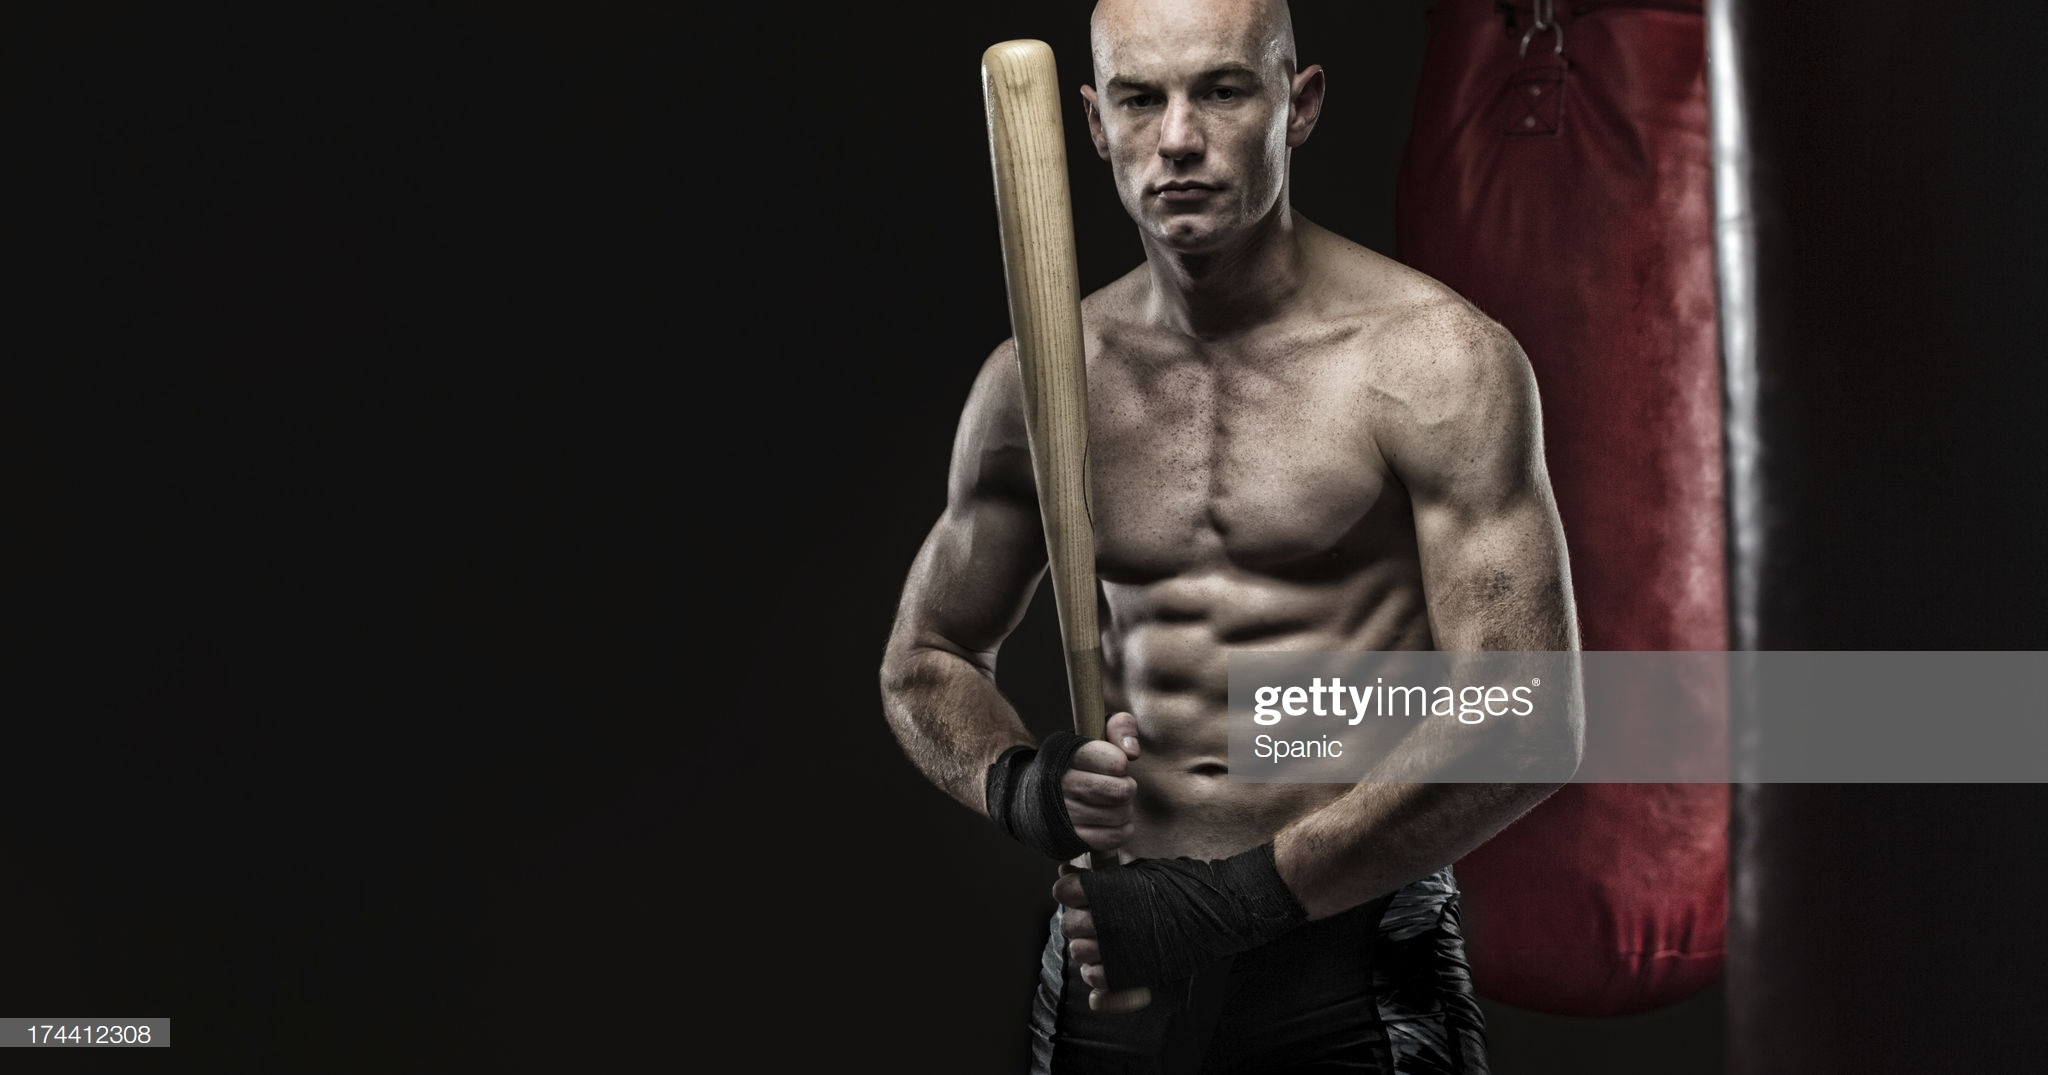bita: (968, 43, 1136, 842)
